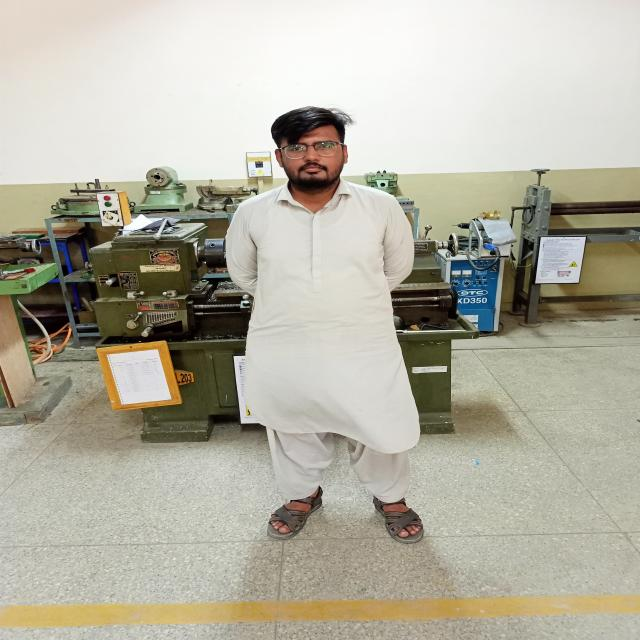dress: (221, 170, 439, 514)
glasses: (270, 138, 351, 164)
